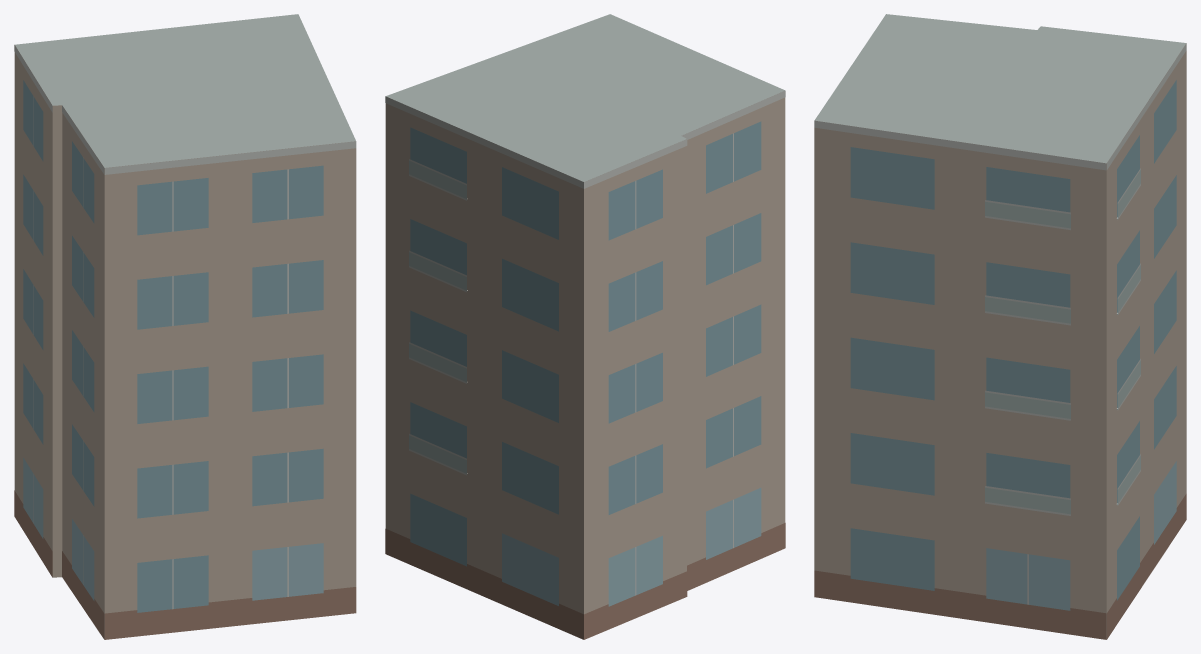
The model's file is survey-upis-32817892.glb.
The picture shows the model from 3 angles, left to right: view 1: azimuth 30°, elevation 25°; view 2: azimuth 150°, elevation 25°; view 3: azimuth 270°, elevation 25°; orthographic projection. The views are drawn at different scales.
Visible parts, largest first — view 1: survey-upis-32817892.tmp; view 2: survey-upis-32817892.tmp; view 3: survey-upis-32817892.tmp.
Part boxes in pixels (x1,y1,x2,y2): survey-upis-32817892.tmp: [14, 14, 356, 639]; survey-upis-32817892.tmp: [385, 14, 785, 639]; survey-upis-32817892.tmp: [814, 14, 1186, 639].
Bounding box in the file's own units: 11.04 × 16.4 × 11.62.
